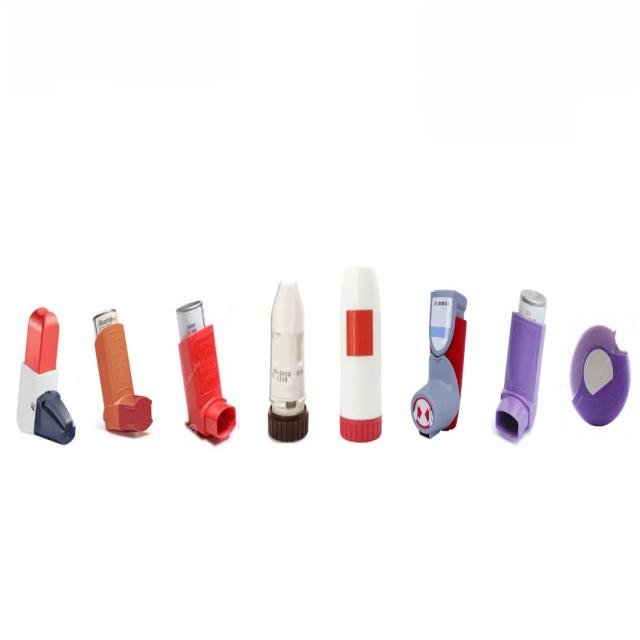B3: (405, 270, 474, 443), (172, 284, 241, 448), (88, 290, 159, 444), (493, 279, 550, 459), (11, 300, 78, 453), (566, 310, 634, 434)
